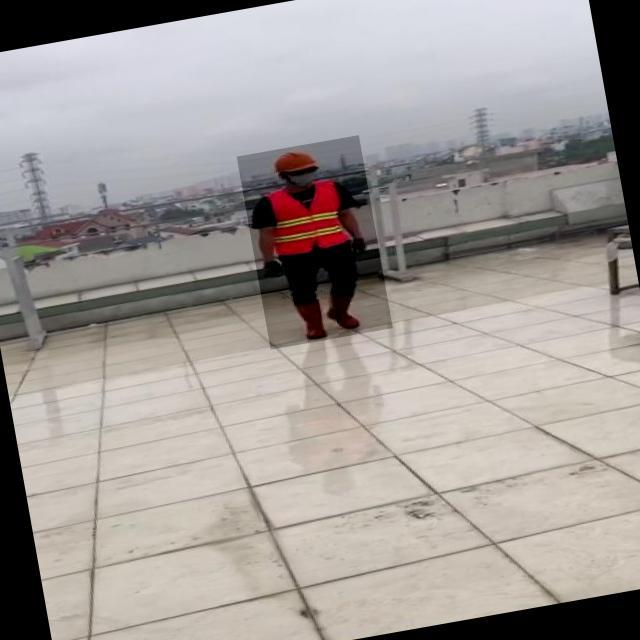Gloves: (258, 258, 288, 281), (348, 236, 369, 259)
Helmet: (269, 146, 320, 176)
Human: (237, 135, 393, 350)
Safety Boot: (322, 289, 363, 335), (293, 300, 329, 343)
Safety Vest: (265, 178, 348, 254)
